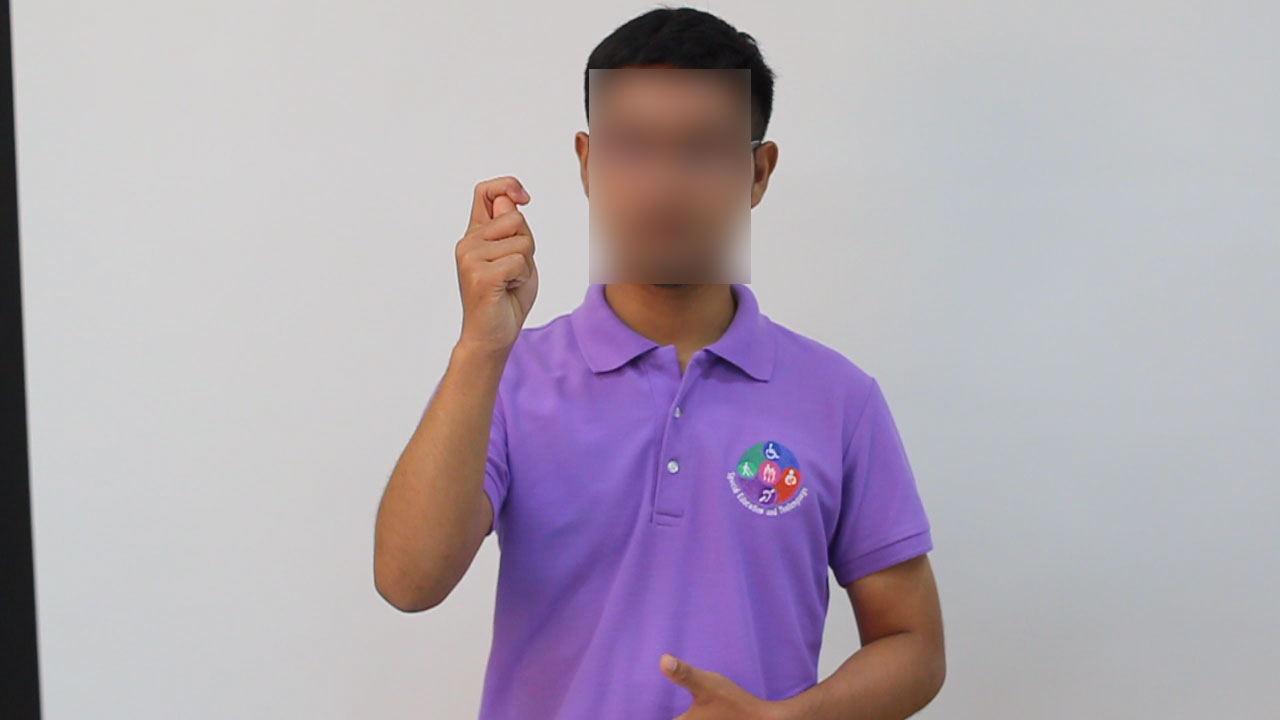or: (449, 166, 548, 356)
